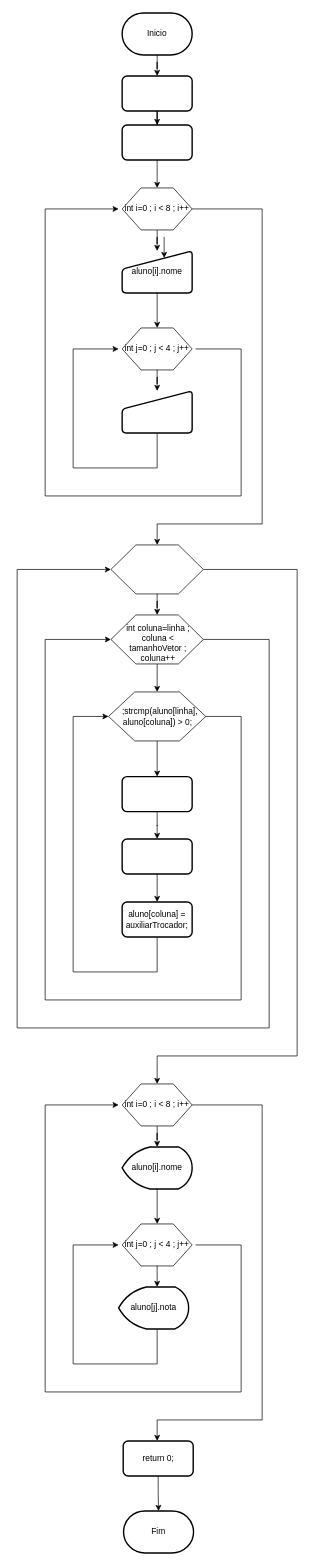
Image size: 315x1565. Some labels were removed from this diagram. The shapes that lost their labels are listed below. From the top down, each one's centre as x and y in pixels, then its label:
At point (156, 93): "cad_aluno aluno[8]".
At point (156, 142): "cad_aluno tamanhoVetor".
At point (156, 411): "aluno[i].nota[j]".
At point (156, 569): "int linha=0 ; linha < tamanhoVetor ; linha++".
At point (156, 794): "auxiliarTrocador = aluno[linha];".
At point (156, 856): "aluno[linha] = aluno[coluna];".
